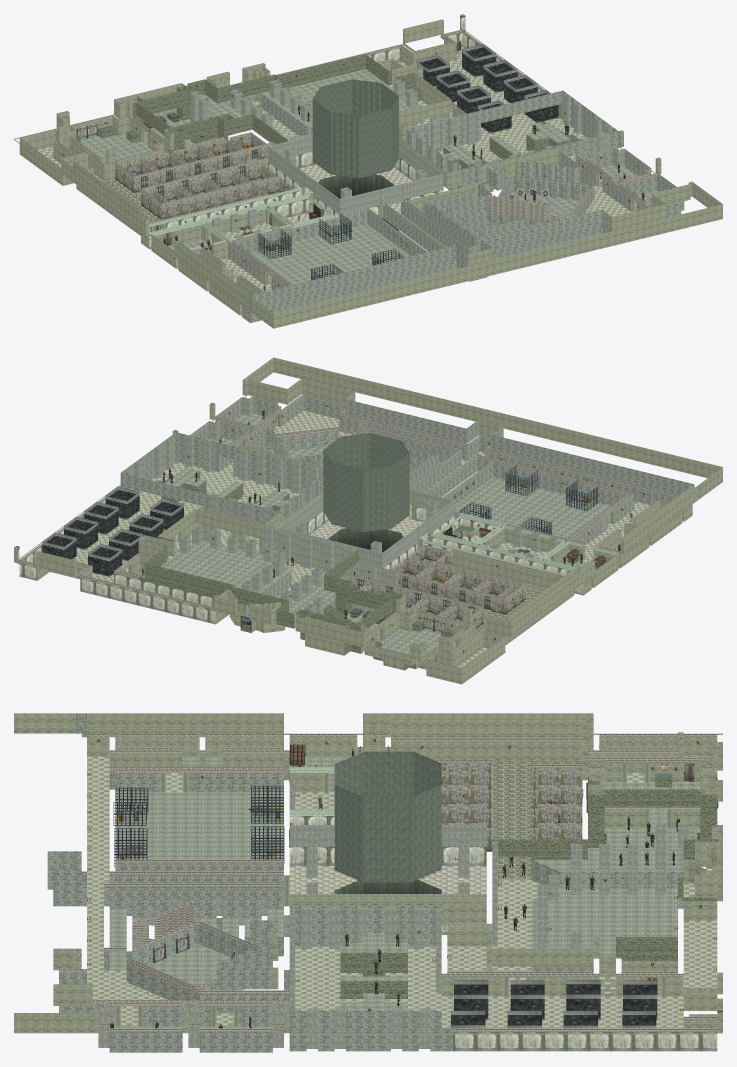
Rendered from map.gltf.
The picture shows the model from 3 angles, top to bottom: view 1: azimuth 30°, elevation 25°; view 2: azimuth 150°, elevation 25°; view 3: azimuth 270°, elevation 25°; orthographic projection. The views are drawn at different scales.
Bounding box in the file's own units: 126 × 37.75 × 126.
47 materials, 47 textured.
